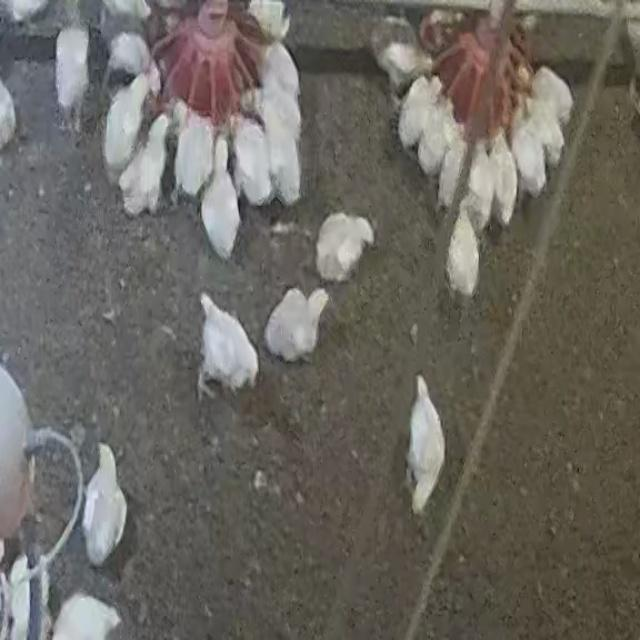chicken: (198, 294, 259, 396), (82, 443, 127, 567), (118, 114, 172, 217), (102, 73, 154, 177), (200, 139, 242, 263), (265, 288, 328, 364), (408, 372, 444, 504), (262, 95, 303, 208), (314, 211, 374, 282), (54, 25, 92, 131), (232, 115, 274, 208), (174, 110, 216, 200), (512, 108, 552, 196), (528, 64, 572, 137), (399, 75, 445, 144), (446, 212, 481, 300), (260, 39, 301, 108), (376, 37, 428, 90), (417, 100, 452, 178), (107, 29, 154, 86), (532, 102, 566, 166), (437, 135, 465, 210), (7, 561, 34, 635), (470, 134, 490, 225), (494, 134, 514, 222)
